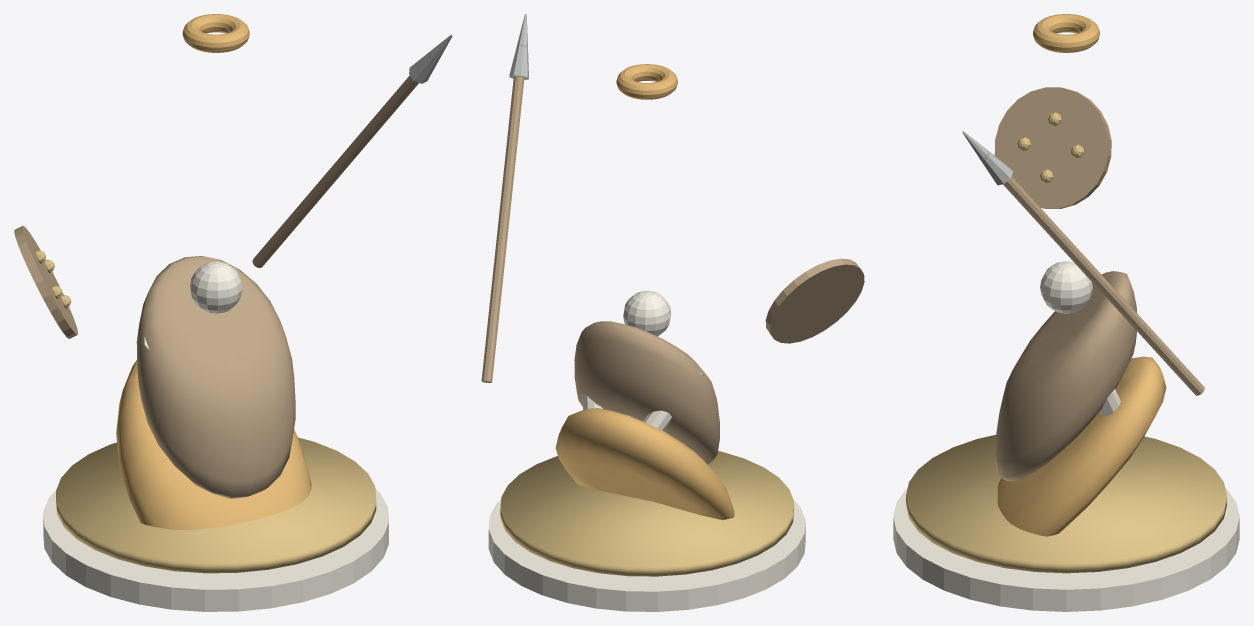
3 views of the same model, side by side, from view 1: azimuth 30°, elevation 25°; view 2: azimuth 150°, elevation 25°; view 3: azimuth 270°, elevation 25° (orthographic). The views are drawn at different scales.
Visible parts, largest first — view 1: Pawn_Torso, Plinth_GoldRim, Plinth_Stone, Pawn_Dhoti, Pawn_SpearShaft, Pawn_Head, Pawn_Turban, Pawn_DhalShield, Pawn_SpearTip; view 2: Plinth_GoldRim, Plinth_Stone, Pawn_Torso, Pawn_Dhoti, Pawn_DhalShield, Pawn_SpearShaft, Pawn_Turban, Pawn_Head, Pawn_SpearTip; view 3: Plinth_GoldRim, Pawn_Torso, Plinth_Stone, Pawn_Dhoti, Pawn_DhalShield, Pawn_SpearShaft, Pawn_Head, Pawn_Turban, Pawn_SpearTip.
Boxes of the visible parts, x1,y1,x2,y2 form: Pawn_Torso: [136, 256, 295, 498]; Plinth_GoldRim: [56, 437, 376, 573]; Plinth_Stone: [43, 489, 388, 611]; Pawn_Dhoti: [116, 360, 311, 530]; Pawn_SpearShaft: [252, 52, 439, 267]; Pawn_Head: [190, 261, 242, 313]; Pawn_Turban: [182, 14, 249, 52]; Pawn_DhalShield: [14, 226, 77, 338]; Pawn_SpearTip: [409, 34, 452, 83]; Plinth_GoldRim: [500, 451, 793, 576]; Plinth_Stone: [488, 499, 805, 611]; Pawn_Torso: [574, 321, 719, 464]; Pawn_Dhoti: [555, 408, 734, 519]; Pawn_DhalShield: [765, 258, 864, 343]; Pawn_SpearShaft: [481, 44, 527, 383]; Pawn_Turban: [616, 64, 677, 99]; Pawn_Head: [623, 290, 671, 336]; Pawn_SpearTip: [509, 14, 528, 79]; Plinth_GoldRim: [906, 435, 1226, 573]; Pawn_Torso: [995, 271, 1137, 481]; Plinth_Stone: [893, 488, 1239, 611]; Pawn_Dhoti: [997, 356, 1166, 536]; Pawn_DhalShield: [994, 87, 1111, 208]; Pawn_SpearShaft: [979, 150, 1204, 395]; Pawn_Head: [1040, 261, 1092, 313]; Pawn_Turban: [1033, 14, 1099, 52]; Pawn_SpearTip: [962, 131, 1012, 185].
Bounding box in the file's own units: 0.8947 × 1.19 × 0.68.
